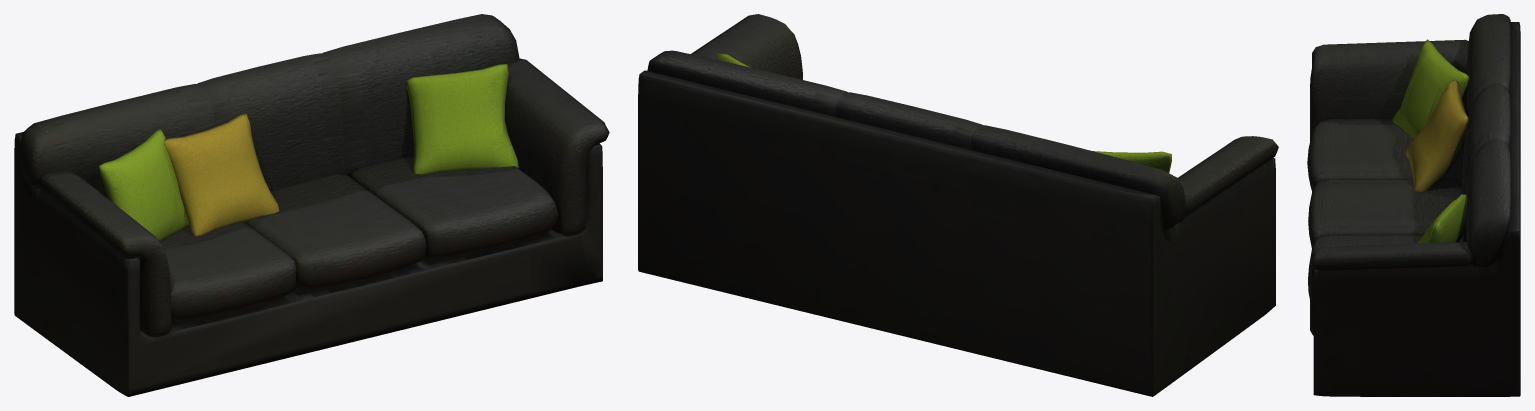
Rendered from sofa.glb.
The picture shows the model from 3 angles, left to right: view 1: azimuth 30°, elevation 25°; view 2: azimuth 150°, elevation 25°; view 3: azimuth 270°, elevation 25°; orthographic projection. The views are drawn at different scales.
Parts seen in each view (by area): view 1: cushions, sofa, pillows; view 2: sofa, cushions, pillows; view 3: cushions, sofa, pillows.
Part boxes in pixels (x1,y1,x2,y2): cushions: (19,14,609,335); sofa: (14,132,602,396); pillows: (99,64,519,241); sofa: (638,70,1275,396); cushions: (647,14,1278,231); pillows: (716,53,1171,172); cushions: (1307,14,1511,335); sofa: (1313,22,1520,396); pillows: (1392,39,1469,243).
Size of the model in its own units: 2.6 by 1.01 by 1.08.
Materials: 3 (3 with a texture image).
